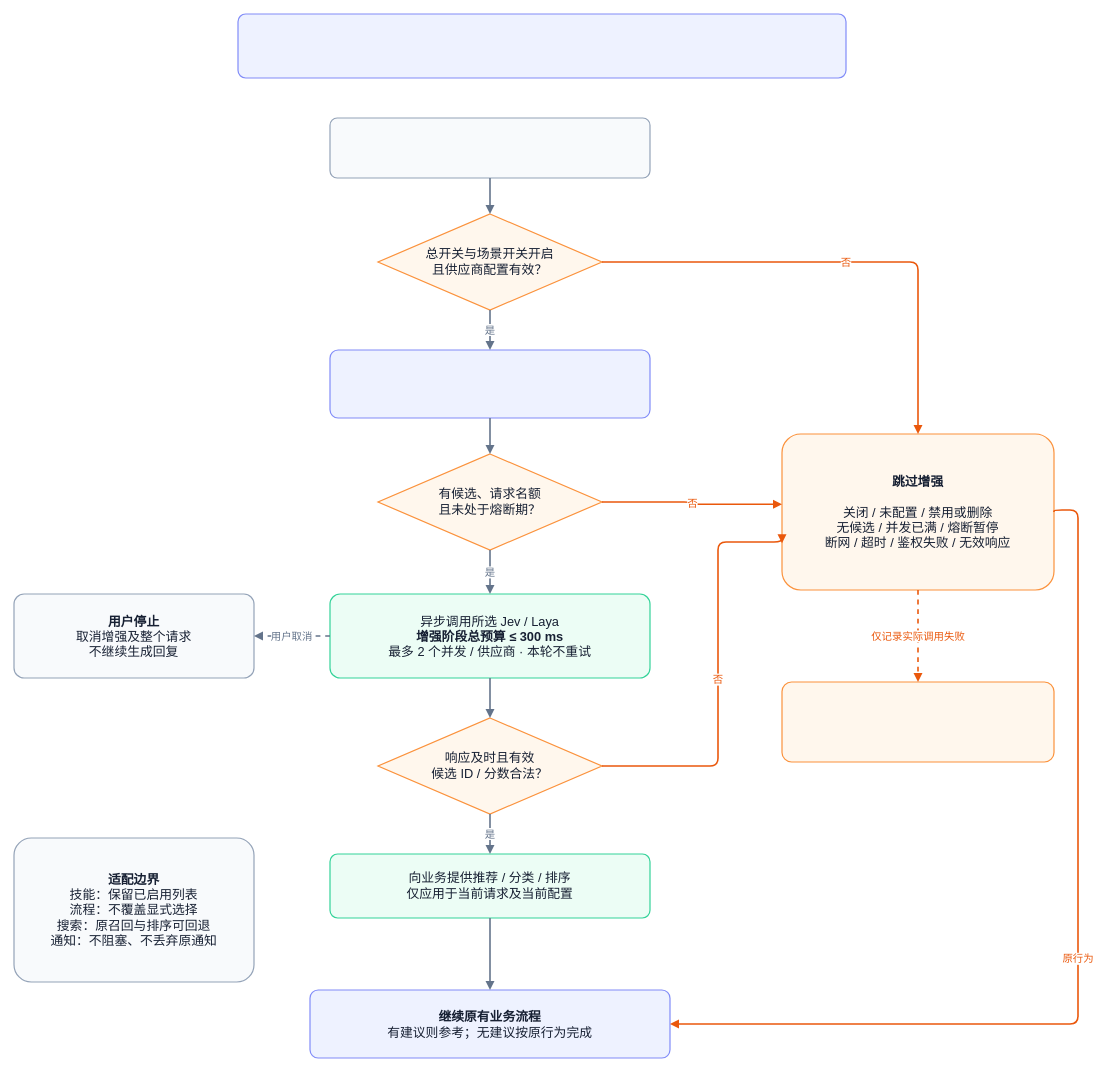
The diagram is 1108 pixels wide and 1073 high, and some of its shapes have lost their labels. The box of each missing label's shape, as (x1, y1, x2, y2) in pixels:
业务原有入口 聊天 / 任务 / 搜索等: (329, 117, 650, 178)
任一业务场景的前台调用与回退 300 ms 为增强阶段总预算；后台场景另设预算: (237, 13, 846, 78)
复用现有规则准备有限候选 权限过滤 · 保留用户明确选择: (329, 349, 650, 418)
故障隔离 连续失败 3 次 → 暂停 60 秒 到期单次探测 · 不切换云端: (781, 681, 1054, 762)
